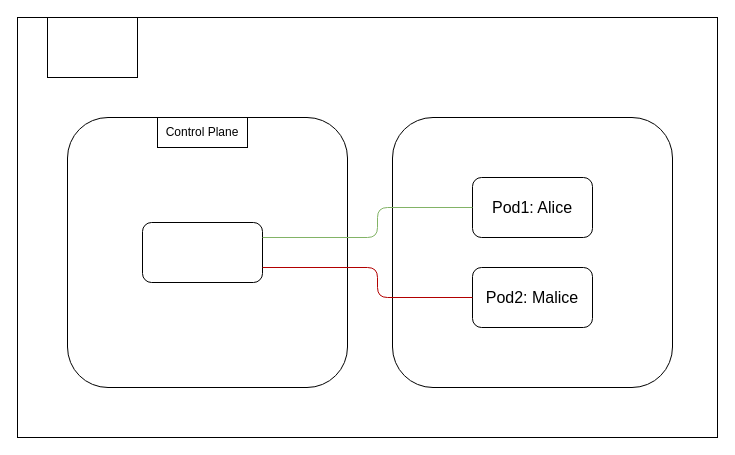
This 735x455 diagram has some shape labels left out. Here are the shapes that lost their labels. From the top down, the centre of each, then its label:
At [92,47]: "Minikube Cluster".
At [202,252]: "Antrea Agent".
